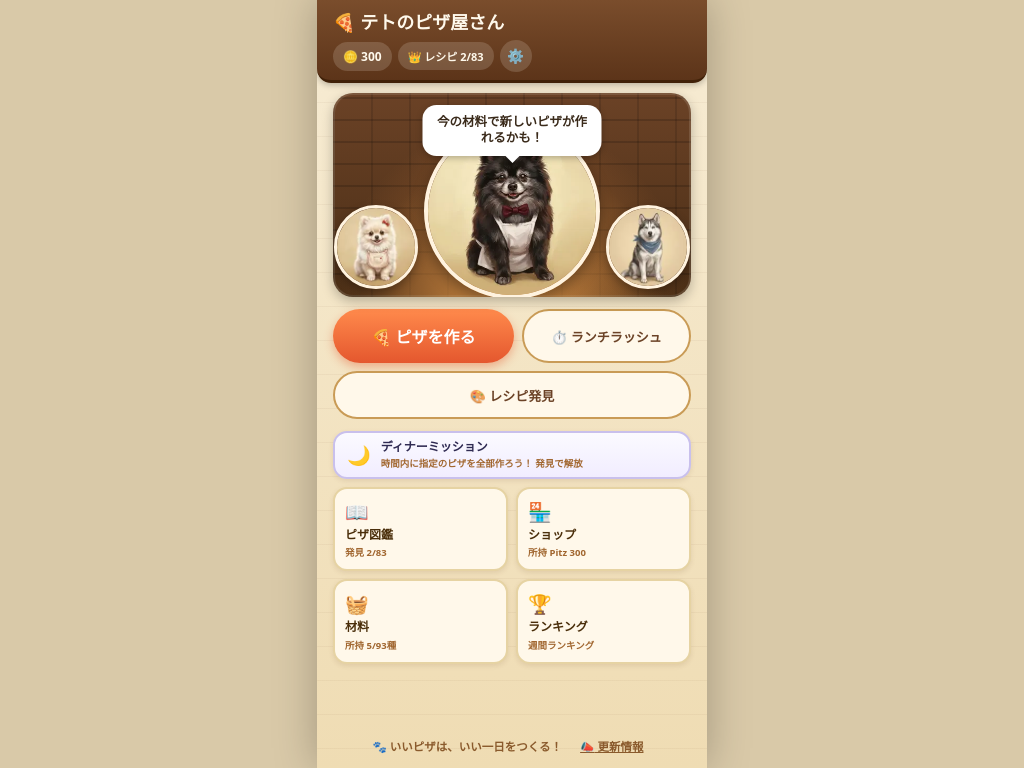
Free Cooking hint sheet in the App (229-B) › a legacy Economy 1.0 save shows its bought lines (「以前のヒント」) and continues the price ladder
Click the button "🎨 レシピ発見" at [512, 395], box [333,371,691,419]
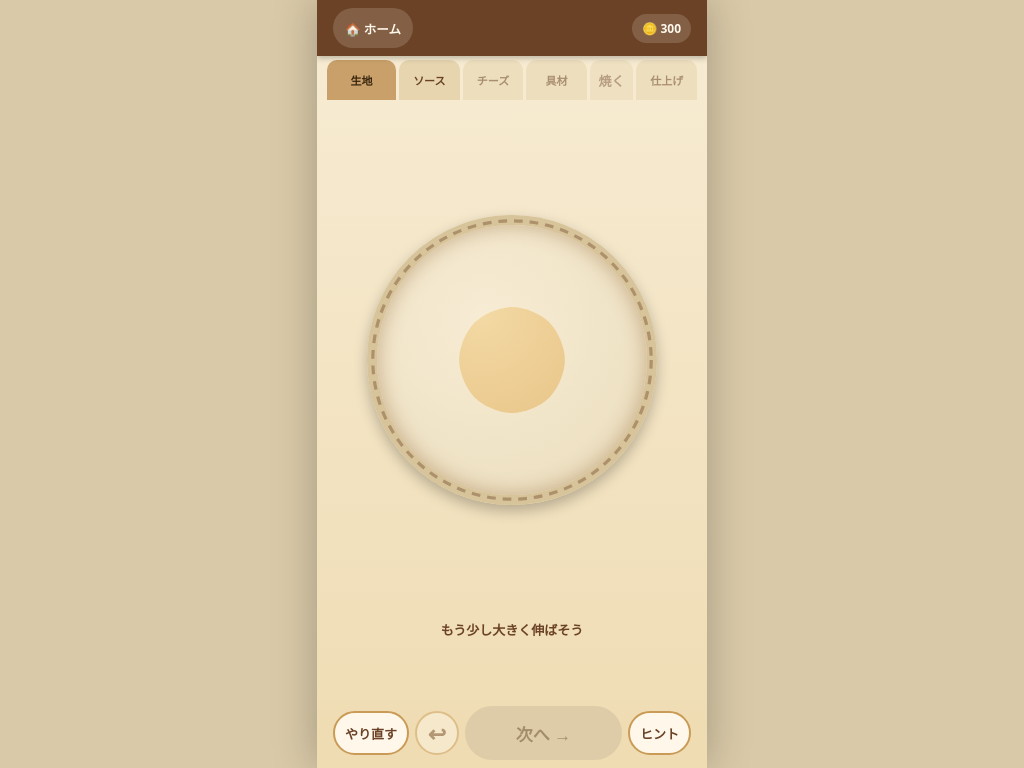
Click the button "ヒント" at [660, 733], box [628,711,691,755]
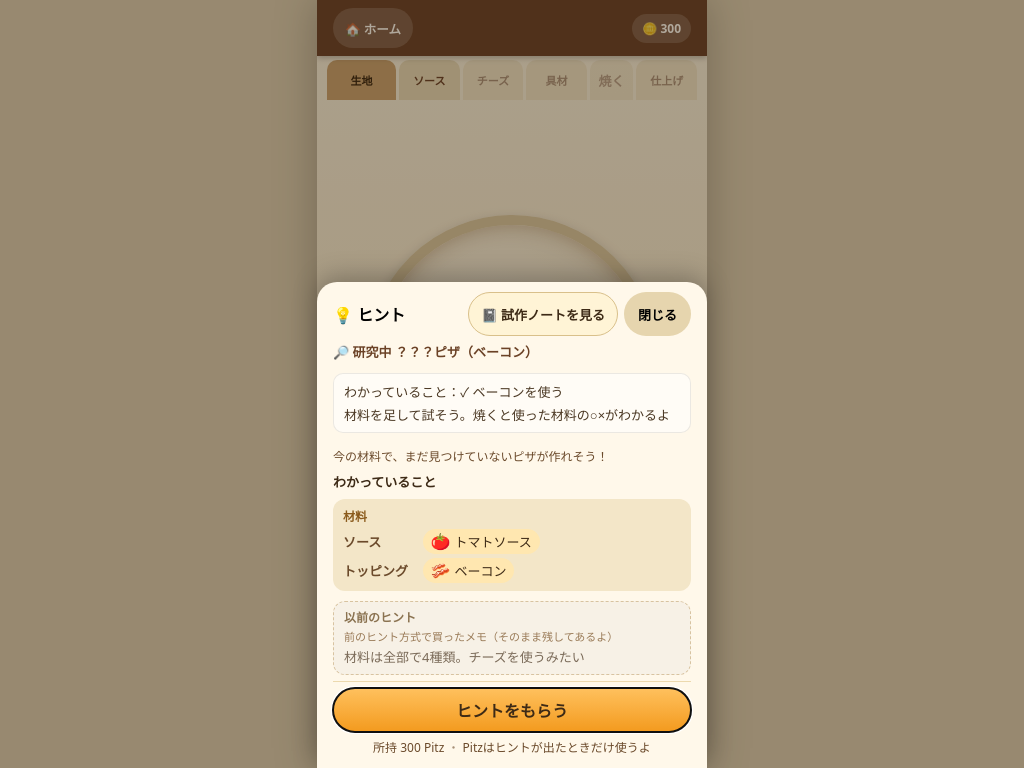
Click the button "ヒントをもらう" at [512, 710], box [333,688,691,732]
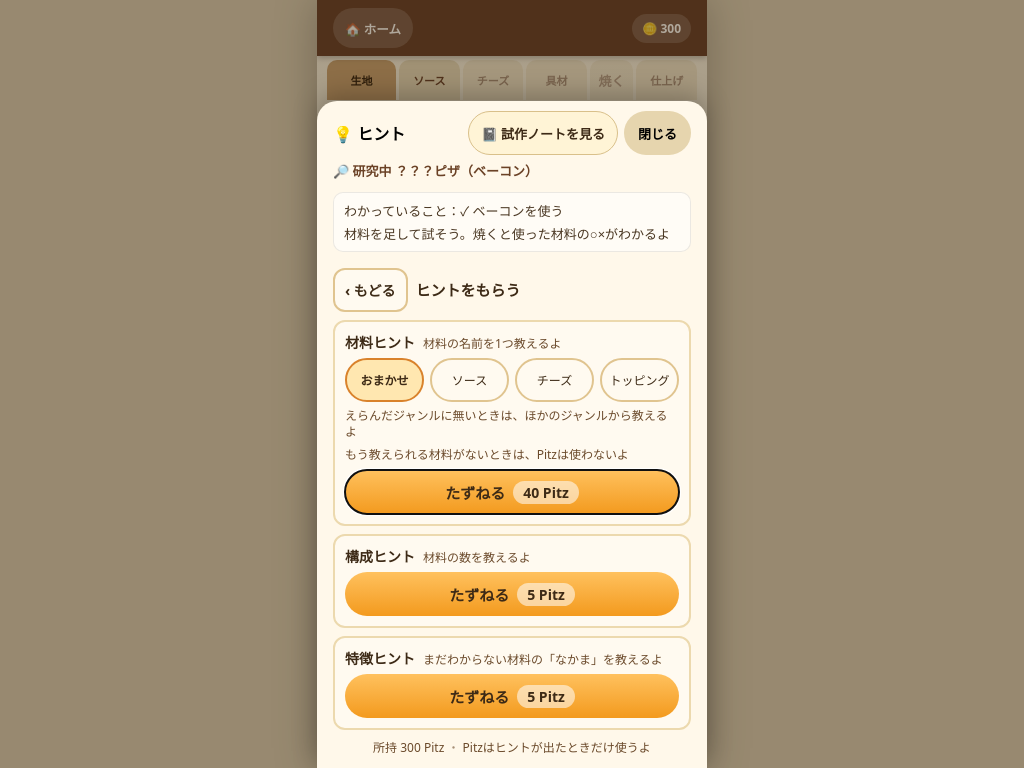
Expected: the button with class "hint-sheet__next" shows "40 Pitz"
Click the button with class "hint-sheet__next" showing "たずねる 40 Pitz" at [512, 492], box [345,470,679,514]
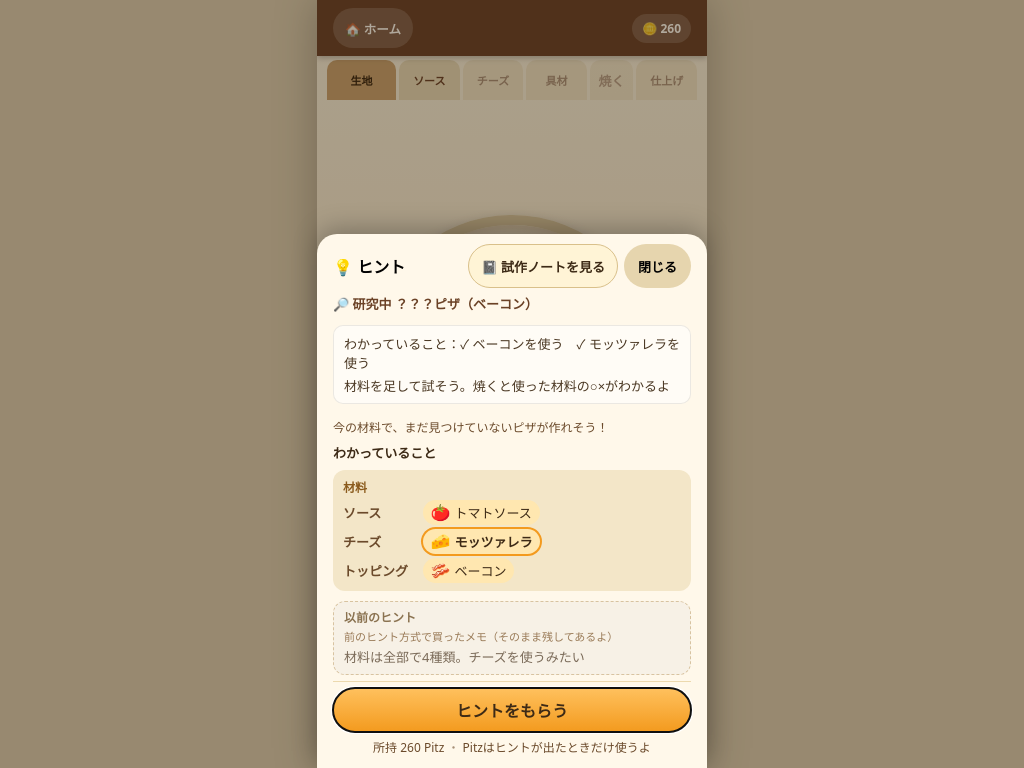
Expected: the element with class "hint-sheet__panel" is gone
